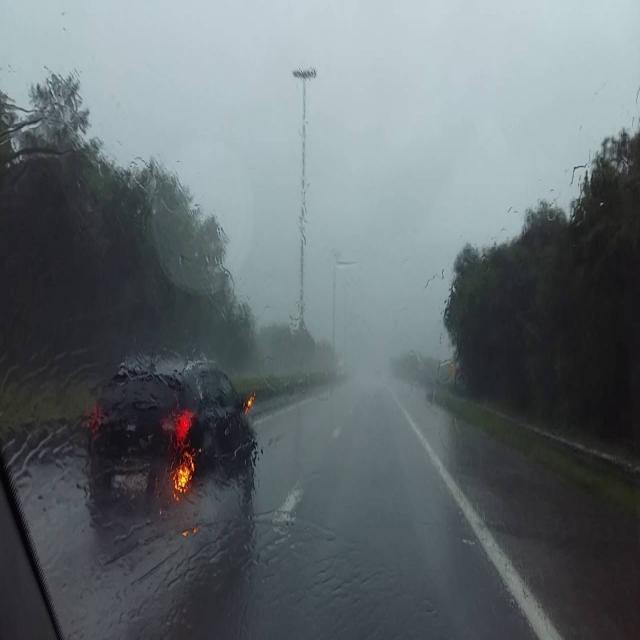car: (84, 358, 260, 526)
